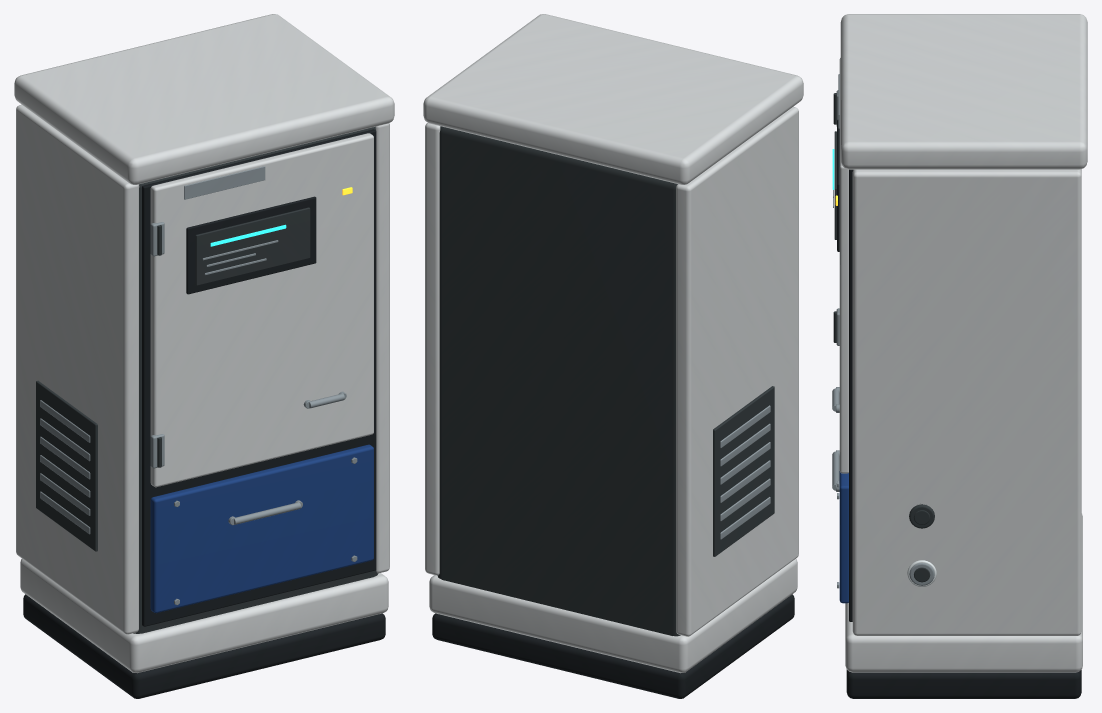
File: 08_cryo_service_cabinet.gltf
3 renders of one model, left to right at view 1: azimuth 30°, elevation 25°; view 2: azimuth 150°, elevation 25°; view 3: azimuth 270°, elevation 25°, orthographic. The views are drawn at different scales.
Visible parts, largest first — view 1: 08_Cryo_Ceramic_Enamel, 08_Cryo_Cobalt_Enamel, 08_Cryo_EPDM_Gasket, 08_Cryo_Anodized_Frame, 08_Cryo_Brushed_Steel; view 2: 08_Cryo_Anodized_Frame, 08_Cryo_Ceramic_Enamel, 08_Cryo_EPDM_Gasket, 08_Cryo_Brushed_Steel; view 3: 08_Cryo_Ceramic_Enamel, 08_Cryo_EPDM_Gasket, 08_Cryo_Cobalt_Enamel, 08_Cryo_Anodized_Frame, 08_Cryo_Brushed_Steel.
Boxes of the visible parts, <box> form: 08_Cryo_Ceramic_Enamel: <box>14,14,394,673</box>; 08_Cryo_Cobalt_Enamel: <box>150,444,373,613</box>; 08_Cryo_EPDM_Gasket: <box>23,129,385,698</box>; 08_Cryo_Anodized_Frame: <box>36,126,378,633</box>; 08_Cryo_Brushed_Steel: <box>40,166,357,605</box>; 08_Cryo_Anodized_Frame: <box>437,126,774,636</box>; 08_Cryo_Ceramic_Enamel: <box>423,14,803,673</box>; 08_Cryo_EPDM_Gasket: <box>432,594,794,698</box>; 08_Cryo_Brushed_Steel: <box>720,405,770,539</box>; 08_Cryo_Ceramic_Enamel: <box>839,14,1087,672</box>; 08_Cryo_EPDM_Gasket: <box>837,120,1081,698</box>; 08_Cryo_Cobalt_Enamel: <box>839,471,848,603</box>; 08_Cryo_Anodized_Frame: <box>833,93,934,582</box>; 08_Cryo_Brushed_Steel: <box>832,74,934,588</box>.
Size of the model in its own units: 1.08 by 2.05 by 0.848.
Materials: 8 (5 with a texture image).
